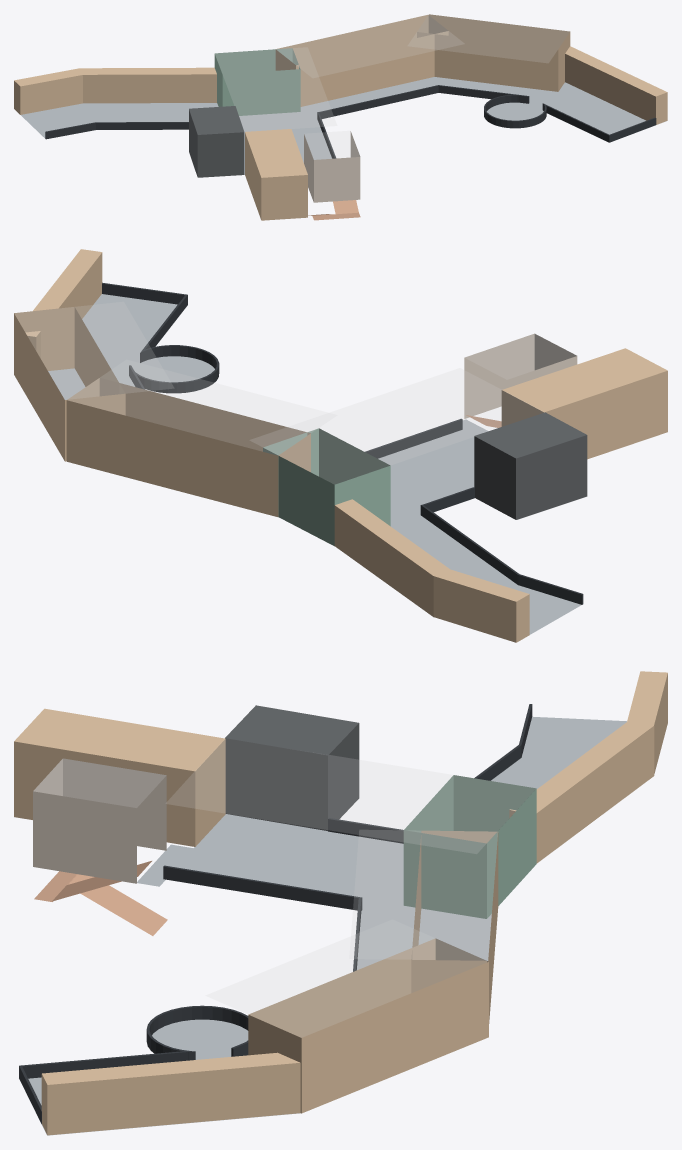
3 views of the same model, one above another, from view 1: azimuth 30°, elevation 25°; view 2: azimuth 150°, elevation 25°; view 3: azimuth 270°, elevation 25° (orthographic). The views are drawn at different scales.
Parts seen in each view (by area): view 1: 立方體.118, 立方體.124, 立方體.001, 立方體.003, 立方體.056, 立方體.152, 立方體.181, 立方體.004, 立方體.183, 立方體.162, 立方體.164, 立方體.048 (+16 smaller); view 2: 立方體.118, 立方體.001, 立方體.003, 立方體.056, 立方體.004, 立方體.162, 立方體.152, 立方體.124, 立方體.181, 立方體.057, 立方體.048, 立方體.164 (+11 smaller); view 3: 立方體.001, 立方體.124, 立方體.003, 立方體.183, 立方體.004, 立方體.056, 立方體.152, 立方體.162, 立方體.057, 立方體.048, 立方體.181, 立方體.058 (+13 smaller).
Boxes of the visible parts, x1,y1,x2,y2 form: 立方體.118: (275, 15, 448, 106); 立方體.124: (417, 14, 570, 91); 立方體.001: (215, 48, 336, 131); 立方體.003: (276, 15, 463, 77); 立方體.056: (245, 129, 307, 220); 立方體.152: (214, 48, 300, 115); 立方體.181: (79, 67, 216, 103); 立方體.004: (408, 15, 569, 62); 立方體.183: (565, 46, 667, 124); 立方體.162: (189, 106, 244, 177); 立方體.164: (517, 82, 666, 138); 立方體.048: (304, 131, 360, 202); 立方體.118: (66, 378, 310, 516); 立方體.001: (250, 368, 543, 483); 立方體.003: (68, 360, 336, 454); 立方體.056: (501, 348, 667, 459); 立方體.004: (14, 302, 173, 399); 立方體.162: (474, 412, 587, 519); 立方體.152: (263, 428, 390, 546); 立方體.124: (14, 307, 125, 461); 立方體.181: (334, 499, 452, 616); 立方體.057: (378, 430, 474, 513); 立方體.048: (464, 333, 577, 418); 立方體.164: (48, 294, 187, 384); 立方體.001: (166, 739, 535, 853); 立方體.124: (248, 938, 488, 1113); 立方體.003: (350, 830, 497, 960); 立方體.183: (41, 1052, 300, 1135); 立方體.004: (206, 920, 487, 1037); 立方體.056: (14, 708, 225, 846); 立方體.152: (403, 775, 536, 918); 立方體.162: (225, 705, 359, 830); 立方體.057: (177, 814, 486, 929); 立方體.048: (33, 758, 166, 883); 立方體.181: (509, 720, 654, 863); 立方體.058: (357, 905, 491, 969).
Size of the model in its own units: 35.65 by 5.75 by 23.51.
